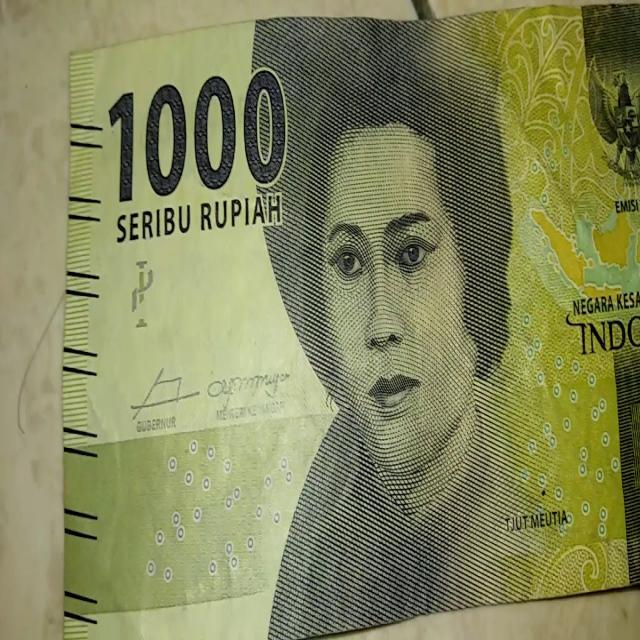seribu rupiah: (66, 6, 640, 640), (307, 49, 499, 448), (98, 60, 292, 204)
